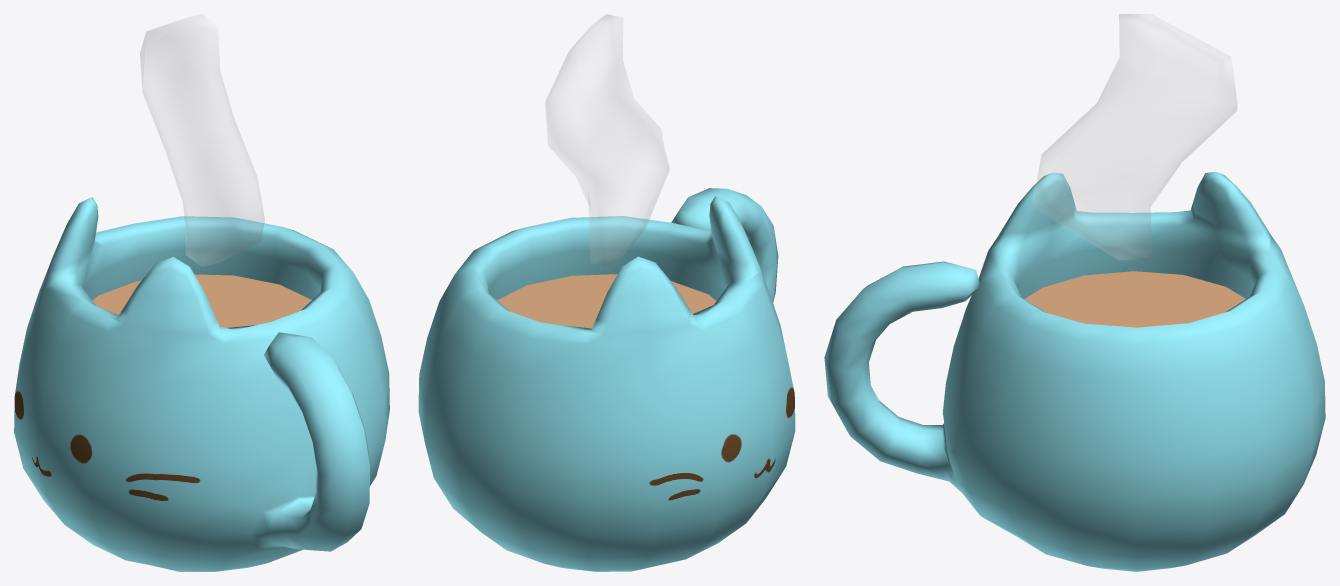
3 renders of one model, left to right at view 1: azimuth 30°, elevation 25°; view 2: azimuth 150°, elevation 25°; view 3: azimuth 270°, elevation 25°, orthographic.
Visible parts, largest first — view 1: ceramic, steam2, liquid; view 2: ceramic, steam2, liquid; view 3: ceramic, steam2, liquid.
Part boxes in pixels (box(x1,y1,x2,y2)): ceramic: box(14, 197, 389, 571); steam2: box(140, 14, 264, 266); liquid: box(92, 274, 311, 327); ceramic: box(418, 188, 795, 571); steam2: box(545, 14, 669, 266); liquid: box(497, 274, 716, 328); ceramic: box(824, 171, 1325, 571); steam2: box(1033, 14, 1236, 259); liquid: box(1024, 271, 1245, 327).
Size of the model in its own units: 2.09 by 3.16 by 2.75.
3 materials, 1 textured.
